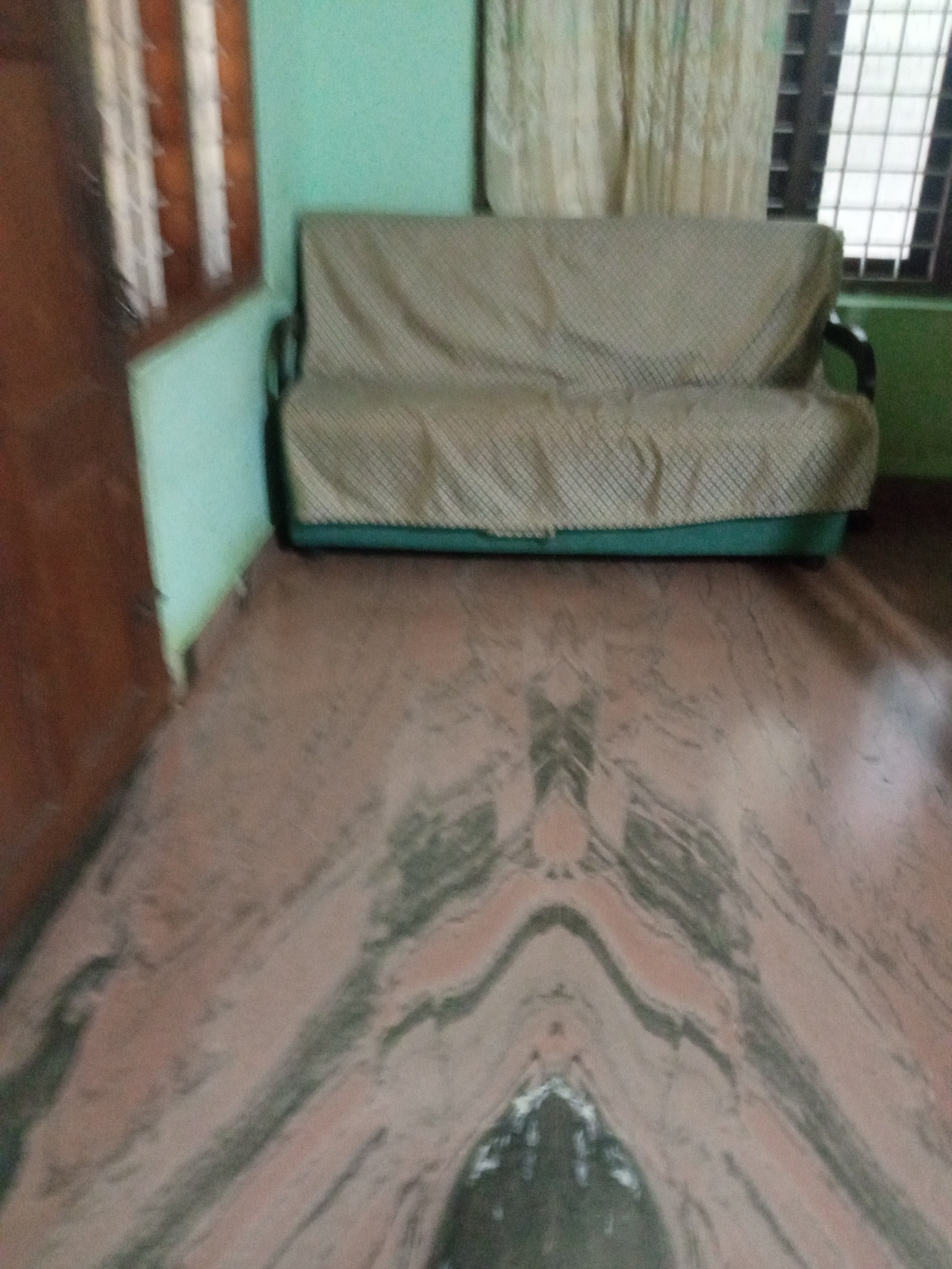sofa: (260, 213, 876, 572)
